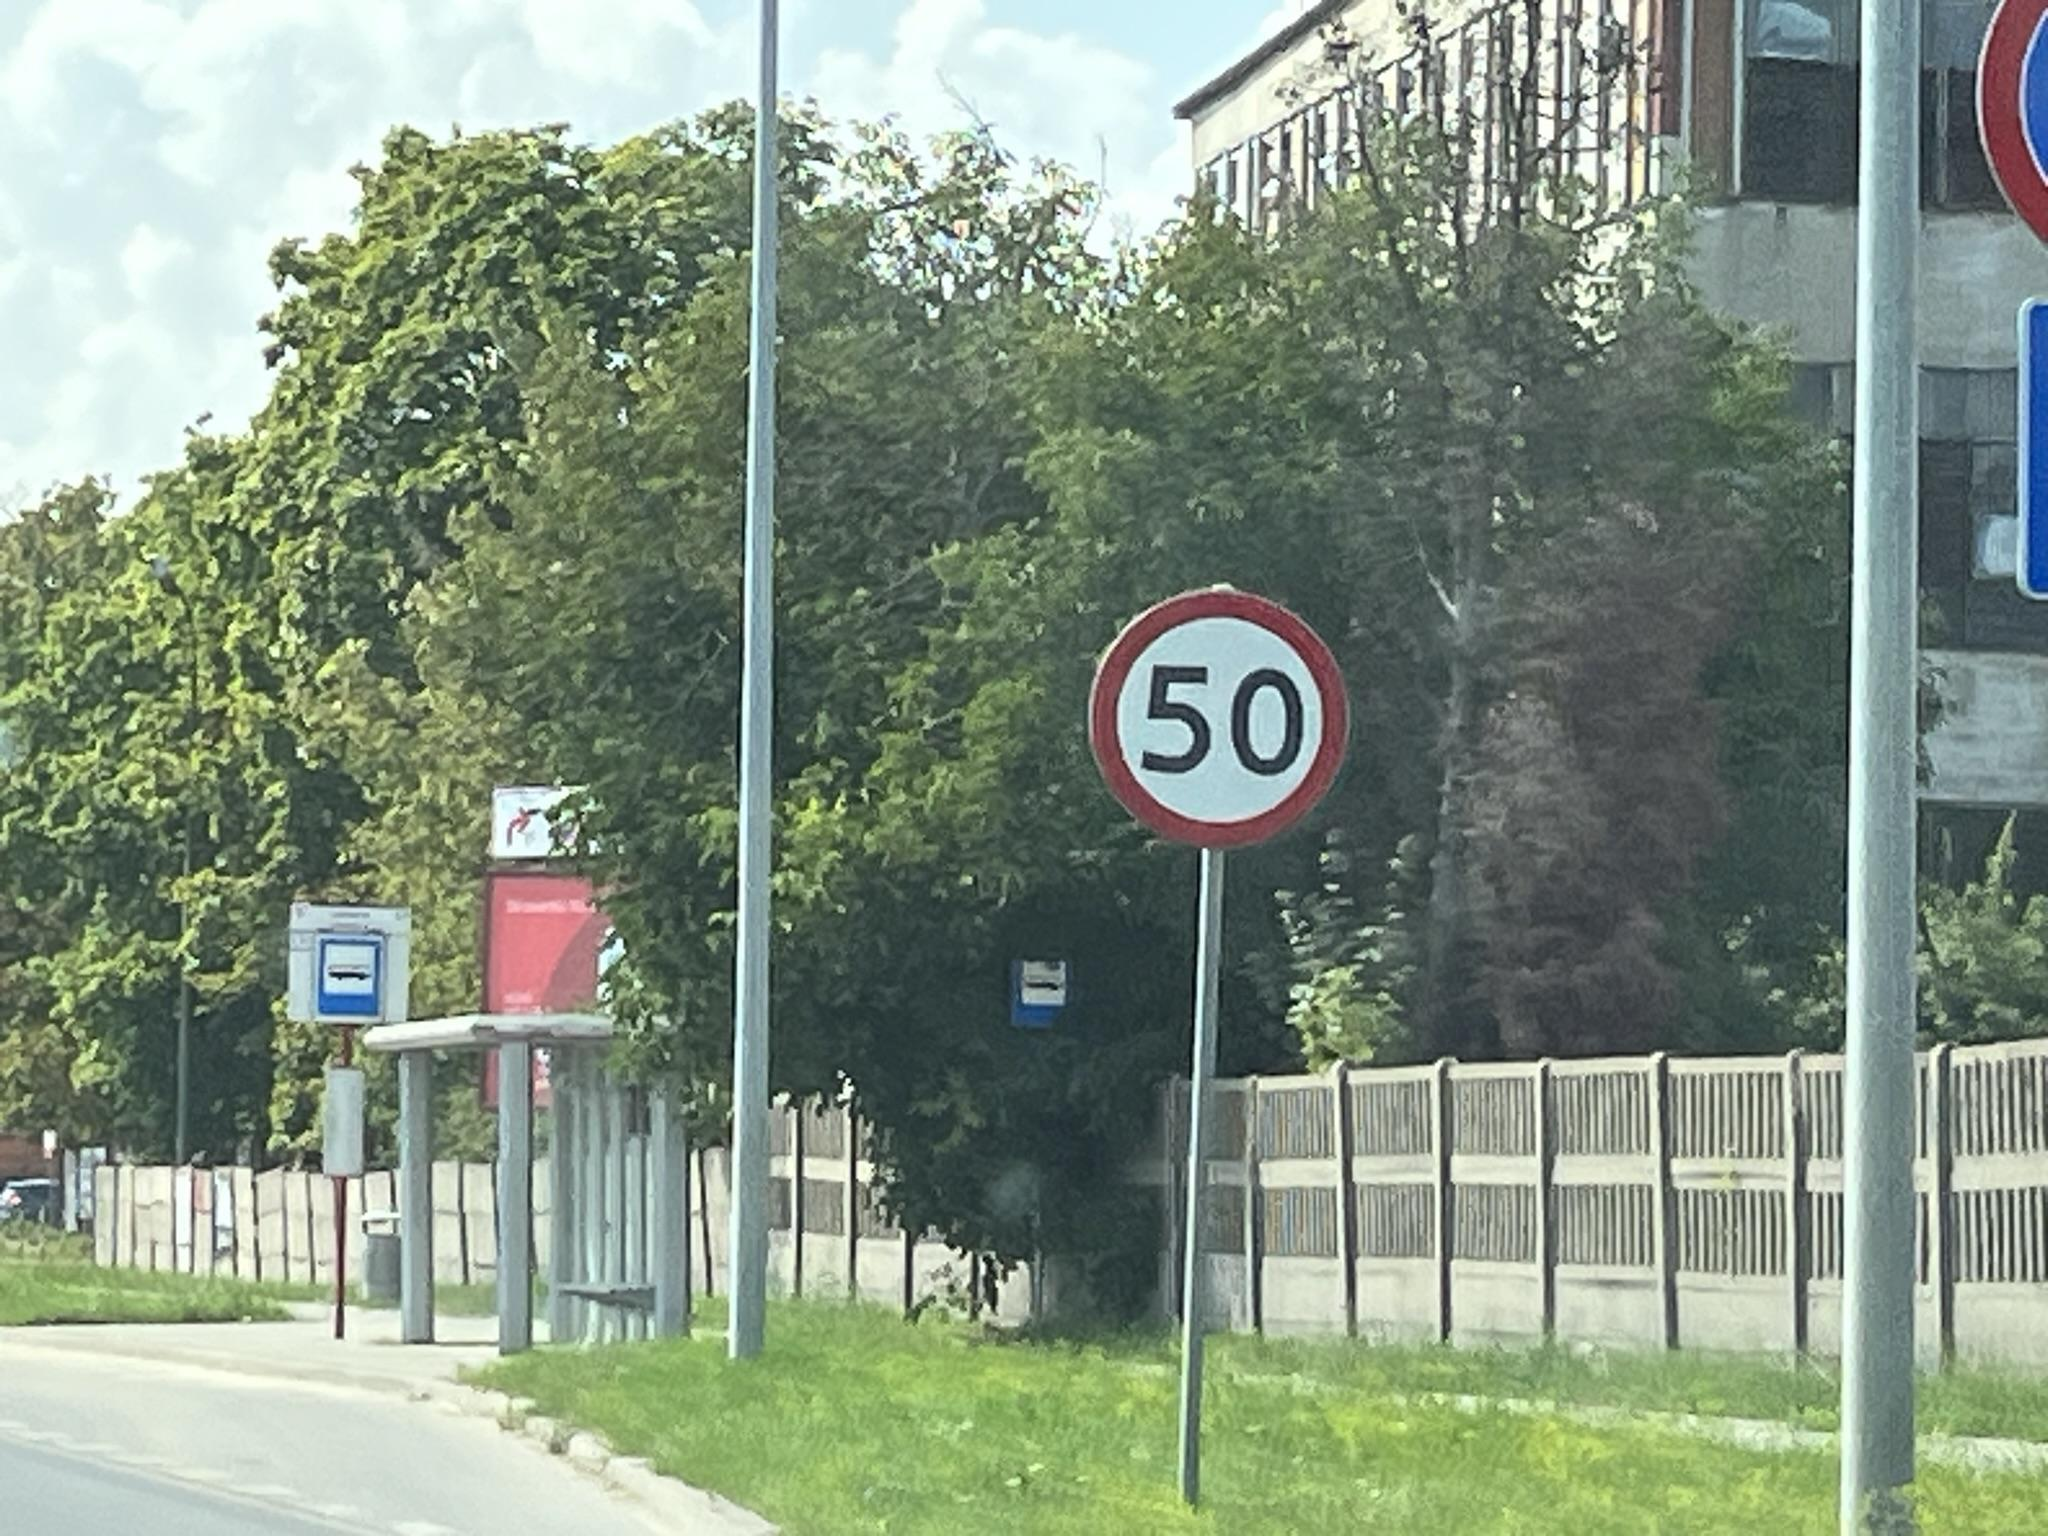prohibitory: (1082, 586, 1351, 845), (1974, 0, 2048, 248)
